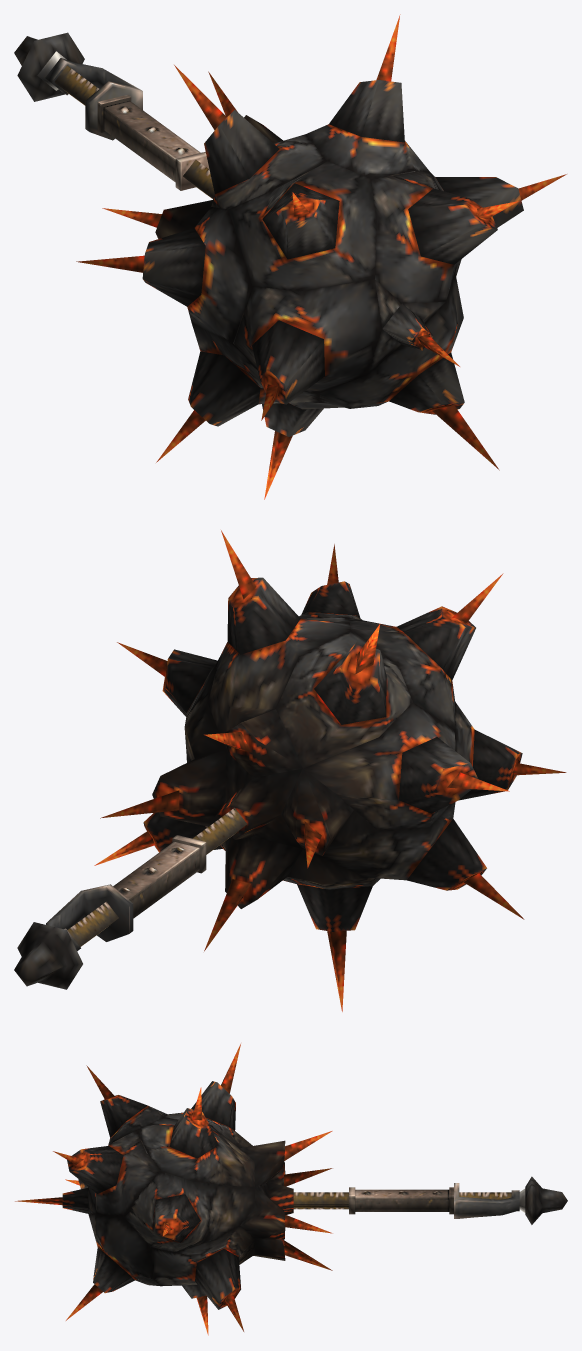
Rendered from we146_amh.OBJ.
3 views of the same model, one above another, from view 1: azimuth 30°, elevation 25°; view 2: azimuth 150°, elevation 25°; view 3: azimuth 270°, elevation 25° (orthographic). The views are drawn at different scales.
Parts seen in each view (by area): view 1: mesh_0; view 2: mesh_0; view 3: mesh_0.
Part boxes in pixels (left/top/right/bottom): mesh_0: left=14, top=14, right=566, bottom=499; mesh_0: left=14, top=530, right=566, bottom=1011; mesh_0: left=15, top=1044, right=567, bottom=1335.
Size of the model in its own units: 143 by 140 by 243.
1 material, 1 textured.
